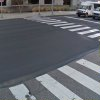crosswalk: (8, 58, 99, 100), (24, 16, 100, 41)
